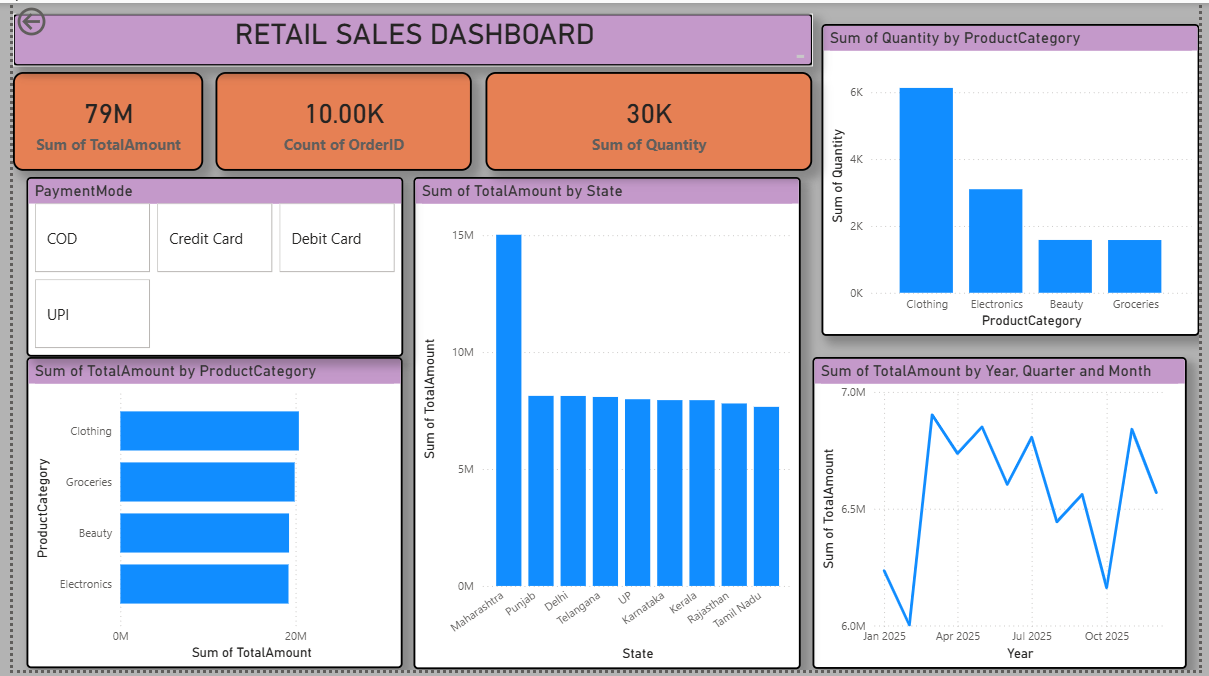

The page's visual inventory and layout, read from the dashboard file:
{"tool":"powerbi","page":{"name":"Page 1","canvas":[1280,720],"ordinal":0},"visuals":[{"type":"card","fields":{"Values":["Sum(powerbi_retail_10000_rows.TotalAmount)"]},"box":[0,74.5,205.6,106.9],"z":0},{"type":"card","fields":{"Values":["CountNonNull(powerbi_retail_10000_rows.OrderID)"]},"box":[218.6,74.5,276.9,106.9],"z":1000},{"type":"lineChart","fields":{"Category":["powerbi_retail_10000_rows.OrderDate.Variation.Date Hierarchy.Year","powerbi_retail_10000_rows.OrderDate.Variation.Date Hierarchy.Quarter","powerbi_retail_10000_rows.OrderDate.Variation.Date Hierarchy.Month","powerbi_retail_10000_rows.OrderDate.Variation.Date Hierarchy.Day"],"Y":["Sum(powerbi_retail_10000_rows.TotalAmount)"]},"box":[863.5,382.7,403.8,336.5],"z":2000},{"type":"clusteredBarChart","fields":{"Category":["powerbi_retail_10000_rows.ProductCategory"],"Y":["Sum(powerbi_retail_10000_rows.TotalAmount)"]},"box":[14.3,382.9,405.7,335.7],"z":3000},{"type":"clusteredColumnChart","fields":{"Category":["powerbi_retail_10000_rows.ProductCategory"],"Y":["Sum(powerbi_retail_10000_rows.Quantity)"]},"box":[872.8,22.7,408,336.8],"z":4000},{"type":"columnChart","fields":{"Category":["powerbi_retail_10000_rows.State"],"Y":["Sum(powerbi_retail_10000_rows.TotalAmount)"]},"box":[432.3,187.8,417.8,531.1],"z":5000},{"type":"textbox","title":"RETAIL SALES DASHBOARD","box":[0,11.3,863,56.7],"z":6000},{"type":"actionButton","box":[0,0,100,40],"z":7000},{"type":"card","fields":{"Values":["Sum(powerbi_retail_10000_rows.Quantity)"]},"box":[510.1,74.5,353,106.9],"z":8000},{"type":"advancedSlicerVisual","fields":{"Values":["powerbi_retail_10000_rows.PaymentMode"]},"box":[14.6,187.8,406.4,194.3],"z":9000}]}

Visuals, with their boxes in screenshot pixels (x1, y1, x2, y2), scaled from the page's 1280x720 canvas onto the 1209x676 screenshot:
card - Sum(powerbi_retail_10000_rows.TotalAmount): l=0, t=70, r=194, b=170
card - CountNonNull(powerbi_retail_10000_rows.OrderID): l=206, t=70, r=468, b=170
lineChart - powerbi_retail_10000_rows.OrderDate.Variation.Date Hierarchy.Year x powerbi_retail_10000_rows.OrderDate.Variation.Date Hierarchy.Quarter: l=816, t=359, r=1197, b=675
clusteredBarChart - powerbi_retail_10000_rows.ProductCategory x Sum(powerbi_retail_10000_rows.TotalAmount): l=14, t=360, r=397, b=675
clusteredColumnChart - powerbi_retail_10000_rows.ProductCategory x Sum(powerbi_retail_10000_rows.Quantity): l=824, t=21, r=1208, b=338
columnChart - powerbi_retail_10000_rows.State x Sum(powerbi_retail_10000_rows.TotalAmount): l=408, t=176, r=803, b=675
"RETAIL SALES DASHBOARD" textbox: l=0, t=11, r=815, b=64
actionButton: l=0, t=0, r=94, b=38
card - Sum(powerbi_retail_10000_rows.Quantity): l=482, t=70, r=815, b=170
advancedSlicerVisual - powerbi_retail_10000_rows.PaymentMode: l=14, t=176, r=398, b=359
